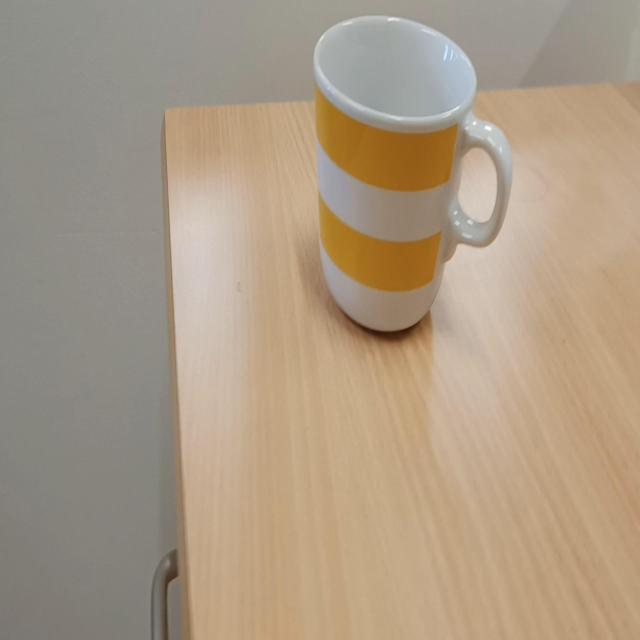cup: (307, 4, 519, 366)
